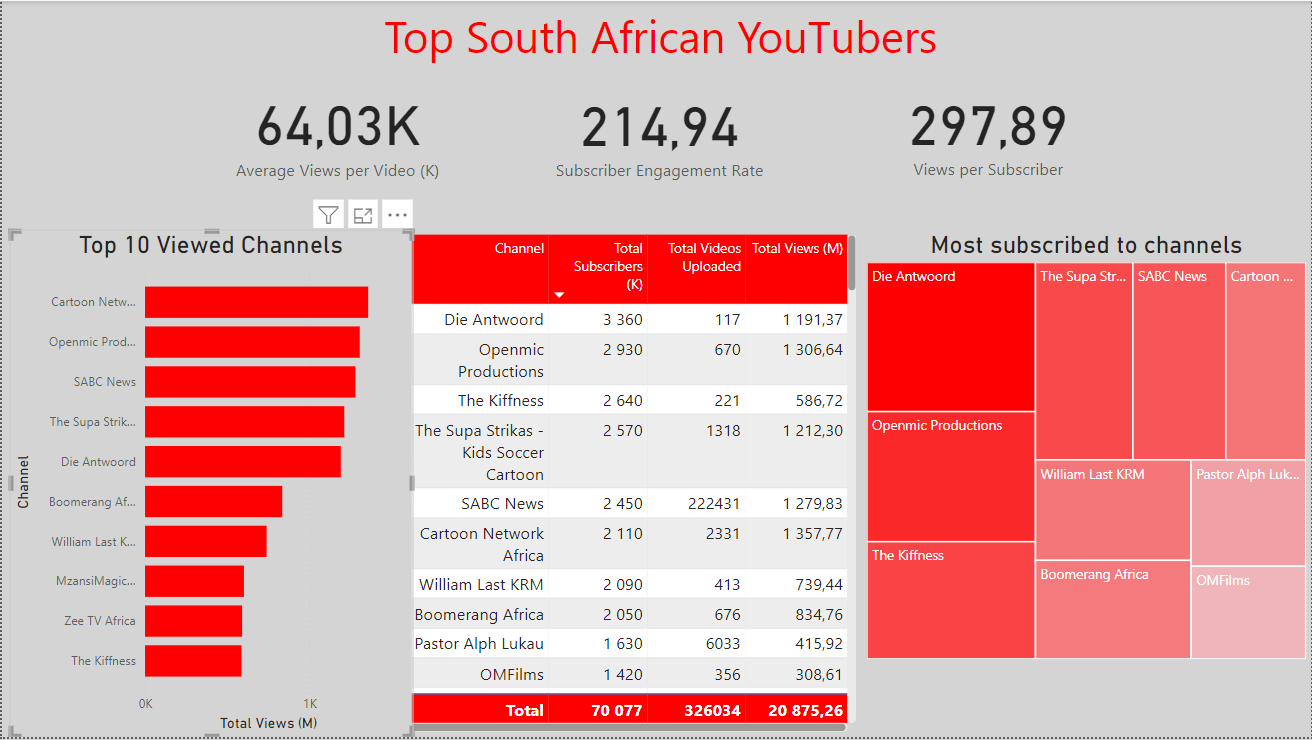

What the dashboard file says about the page in this screenshot:
{"tool":"powerbi","page":{"name":"Page 1","canvas":[1280,720],"ordinal":0},"visuals":[{"type":"textbox","box":[8.3,0,1271.7,70.2],"z":0},{"type":"card","fields":{"Values":["youtube_data_view.Average Views per Video (M)"]},"box":[204.7,68.7,248.8,115.3],"z":1000},{"type":"card","fields":{"Values":["youtube_data_view.Subscriber Engagement Rate"]},"box":[518.3,67.4,250.1,119.2],"z":2000},{"type":"card","fields":{"Values":["youtube_data_view.Views per Subscriber"]},"box":[841,73.9,247.5,105],"z":3000},{"type":"treemap","title":"Most subscribed to channels","fields":{"Group":["youtube_data_view.channel_name"],"Values":["youtube_data_view.Total Subscribers (K)"]},"box":[841,224.2,439.3,425],"z":4000},{"type":"clusteredBarChart","title":"Top 10 Viewed Channels","fields":{"Category":["youtube_data_view.channel_name"],"Y":["youtube_data_view.Total Views (M)"]},"box":[7.8,224.2,393.9,496.3],"z":5000},{"type":"tableEx","fields":{"Values":["youtube_data_view.channel_name","youtube_data_view.Total Subscribers (M)","youtube_data_view.Total Videos Uploaded","youtube_data_view.Total Views (B)"]},"box":[390,224.2,450.9,496.3],"z":6000}]}

Visuals, with their boxes in screenshot pixels (x1, y1, x2, y2), scaled from the page's 1280x720 canvas onto the 1312x740 screenshot:
textbox: box(9, 0, 1311, 72)
card - youtube_data_view.Average Views per Video (M): box(210, 71, 465, 189)
card - youtube_data_view.Subscriber Engagement Rate: box(531, 69, 788, 192)
card - youtube_data_view.Views per Subscriber: box(862, 76, 1116, 184)
"Most subscribed to channels" treemap: box(862, 230, 1311, 667)
"Top 10 Viewed Channels" clusteredBarChart: box(8, 230, 412, 739)
tableEx - youtube_data_view.channel_name x youtube_data_view.Total Subscribers (M): box(400, 230, 862, 739)
